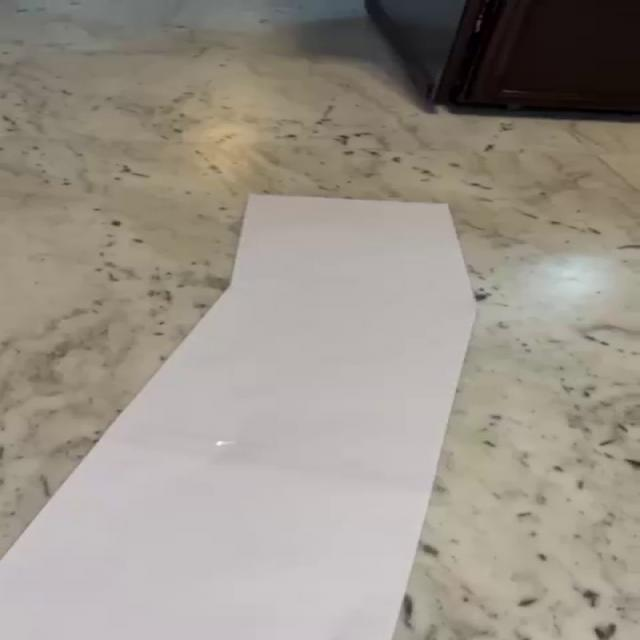road: (3, 196, 476, 640)
